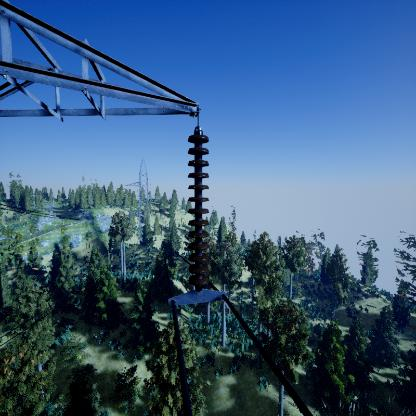insulator: (186, 131, 212, 293)
tower: (123, 155, 165, 240)
